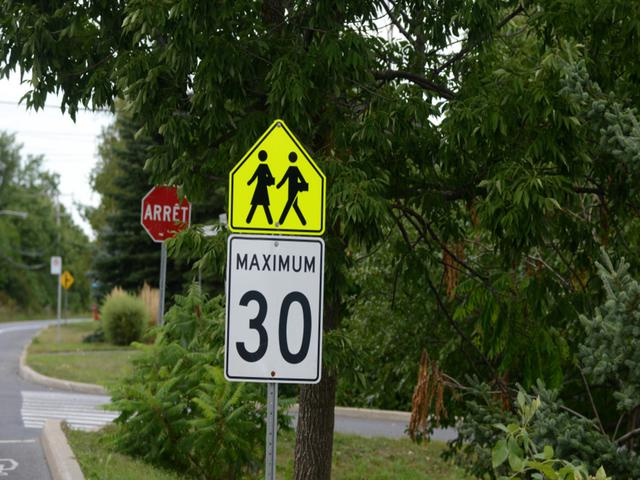stop: (138, 182, 192, 245)
vitesse: (220, 234, 328, 388)
